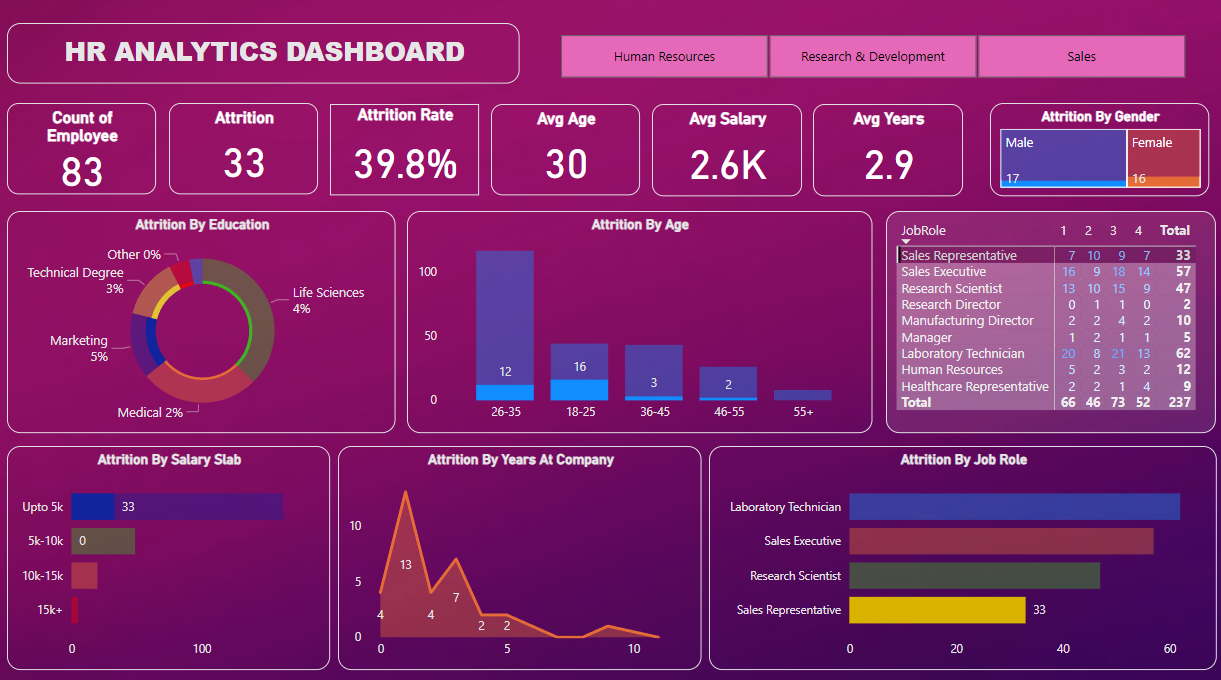

What the dashboard file says about the page in this screenshot:
{"tool":"powerbi","page":{"name":"Page 1","canvas":[1280,720],"ordinal":0},"visuals":[{"type":"card","title":"Count of Employee","fields":{"Values":["CountNonNull(HR_Analytics.EmpID)"]},"box":[11.4,112.3,154.9,94.6],"z":0},{"type":"card","title":"Attrition","fields":{"Values":["Sum(HR_Analytics.AttritionCount)"]},"box":[179.9,112.3,154.9,94.6],"z":1000},{"type":"card","title":"Attrition Rate","fields":{"Values":["HR_Analytics.AttritionRate"]},"box":[347.3,113.3,154.9,94.6],"z":2000},{"type":"card","title":"Avg Age","fields":{"Values":["Avg(HR_Analytics.Age)"]},"box":[514.7,113.3,154.9,94.6],"z":3000},{"type":"card","title":"Avg Salary","fields":{"Values":["Avg(HR_Analytics.MonthlyIncome)"]},"box":[682.1,113.3,156,95.7],"z":4000},{"type":"card","title":"Avg Years","fields":{"Values":["Avg(HR_Analytics.YearsAtCompany)"]},"box":[849.5,113.3,156,95.7],"z":5000},{"type":"donutChart","title":"Attrition By Education","fields":{"Category":["HR_Analytics.EducationField"],"Y":["Sum(HR_Analytics.AttritionCount)"]},"box":[11.4,224.6,404.5,230.8],"z":6000},{"type":"columnChart","title":"Attrition By Age","fields":{"Category":["HR_Analytics.AgeGroup"],"Y":["Sum(HR_Analytics.AttritionCount)"]},"box":[427.4,224.6,483.5,230.8],"z":7000},{"type":"pivotTable","fields":{"Rows":["HR_Analytics.JobRole"],"Columns":["HR_Analytics.JobSatisfaction"],"Values":["Sum(HR_Analytics.AttritionCount)"]},"box":[925.4,224.6,343.1,230.8],"z":8000},{"type":"clusteredBarChart","title":"Attrition By Salary Slab","fields":{"Category":["HR_Analytics.SalarySlab"],"Y":["Sum(HR_Analytics.AttritionCount)"]},"box":[11.4,469,335.9,232.9],"z":9000},{"type":"clusteredBarChart","title":"Attrition By Job Role","fields":{"Category":["HR_Analytics.JobRole"],"Y":["Sum(HR_Analytics.AttritionCount)"]},"box":[741.4,469,528.2,232.9],"z":10000},{"type":"stackedAreaChart","title":"Attrition By Years At Company","fields":{"Category":["HR_Analytics.YearsAtCompany"],"Y":["Sum(HR_Analytics.AttritionCount)"]},"box":[355.6,469,378.5,232.9],"z":11000},{"type":"treemap","title":"Attrition By Gender","fields":{"Group":["HR_Analytics.Gender"],"Values":["Sum(HR_Analytics.AttritionCount)"]},"box":[1033.6,112.3,227.7,96.7],"z":12000},{"type":"slicer","fields":{"Values":["HR_Analytics.Department"]},"box":[561.5,20.8,698.7,71.7],"z":13000},{"type":"textbox","box":[11.4,29.1,533.4,63.4],"z":13001}]}

Visuals, with their boxes in screenshot pixels (x1, y1, x2, y2), scaled from the page's 1280x720 canvas onto the 1221x680 screenshot:
"Count of Employee" card: [left=11, top=106, right=159, bottom=195]
"Attrition" card: [left=172, top=106, right=319, bottom=195]
"Attrition Rate" card: [left=331, top=107, right=479, bottom=196]
"Avg Age" card: [left=491, top=107, right=639, bottom=196]
"Avg Salary" card: [left=651, top=107, right=799, bottom=197]
"Avg Years" card: [left=810, top=107, right=959, bottom=197]
"Attrition By Education" donutChart: [left=11, top=212, right=397, bottom=430]
"Attrition By Age" columnChart: [left=408, top=212, right=869, bottom=430]
pivotTable - HR_Analytics.JobRole x HR_Analytics.JobSatisfaction: [left=883, top=212, right=1210, bottom=430]
"Attrition By Salary Slab" clusteredBarChart: [left=11, top=443, right=331, bottom=663]
"Attrition By Job Role" clusteredBarChart: [left=707, top=443, right=1211, bottom=663]
"Attrition By Years At Company" stackedAreaChart: [left=339, top=443, right=700, bottom=663]
"Attrition By Gender" treemap: [left=986, top=106, right=1203, bottom=197]
slicer - HR_Analytics.Department: [left=536, top=20, right=1202, bottom=87]
textbox: [left=11, top=27, right=520, bottom=87]
